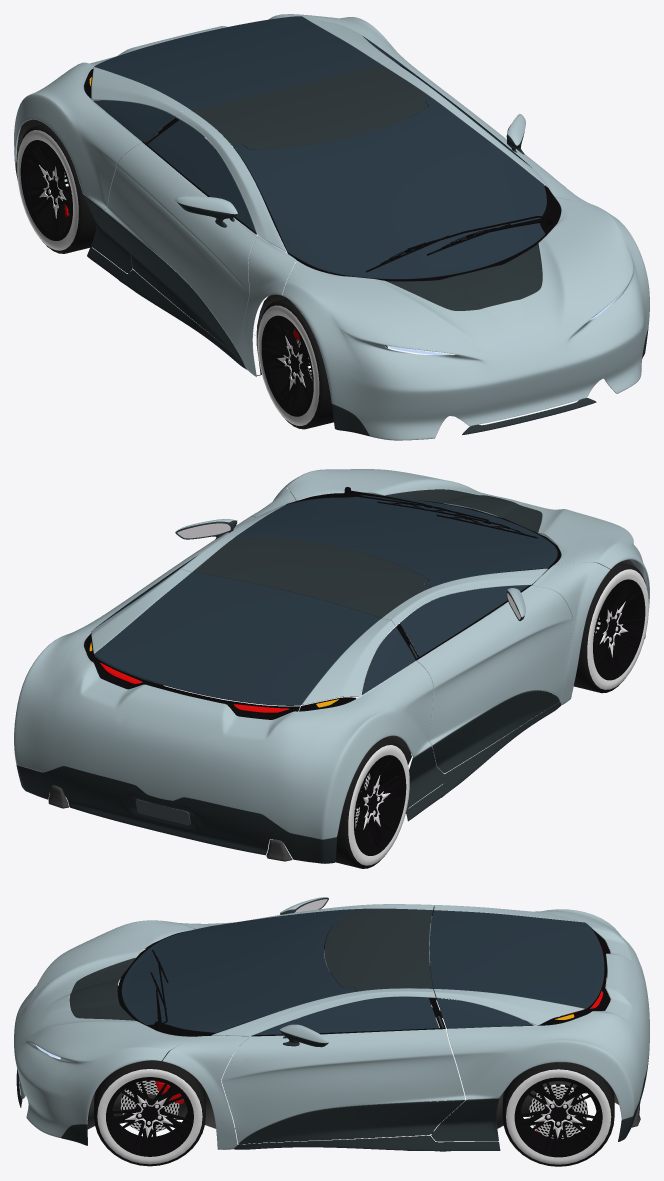
Rendered from coast-gt.glb.
3 views of the same model, one above another, from view 1: azimuth 30°, elevation 25°; view 2: azimuth 150°, elevation 25°; view 3: azimuth 270°, elevation 25° (orthographic). The views are drawn at different scales.
Parts seen in each view (by area): view 1: BodyHood, BodyWindshield, BodyRearwindow, BodyDoorRColor1, BodyRearPanelsColor1, BodyRoofPanel, BodyPillars, BodyPanelsColor2, BodyHoodTopgrill, BodyDoorRWindow, WheelRearRRim, WheelFrontRRim (+9 smaller); view 2: BodyRearPanelsColor1, BodyRearwindow, BodyWindshield, BodyDoorRColor1, BodyPanelsColor2, BodyRoofPanel, BodyHood, BodyPillars, BodyDoorRColor2, WheelFrontRRim, WheelRearRRim, BodyDoorRWindow (+8 smaller); view 3: BodyWindshield, BodyRearPanelsColor1, BodyDoorLColor1, BodyHood, BodyRearwindow, BodyRoofPanel, BodyPillars, BodyDoorLColor2, BodyPanelsColor2, WheelFrontLRim, WheelRearLRim, WheelFrontL (+11 smaller).
Boxes of the visible parts, box(x1,y1,x2,y2) form: BodyHood: box(282, 197, 649, 440); BodyWindshield: box(233, 97, 546, 279); BodyRearwindow: box(94, 16, 381, 110); BodyDoorRColor1: box(104, 142, 256, 361); BodyRearPanelsColor1: box(14, 14, 427, 210); BodyRoofPanel: box(193, 65, 430, 149); BodyPillars: box(175, 61, 595, 376); BodyPanelsColor2: box(15, 109, 648, 436); BodyHoodTopgrill: box(386, 244, 542, 310); BodyDoorRWindow: box(147, 120, 256, 232); WheelRearRRim: box(20, 140, 72, 240); WheelFrontRRim: box(261, 315, 313, 416); BodyRearPanelsColor1: box(14, 569, 433, 839); BodyRearwindow: box(94, 572, 380, 705); BodyWindshield: box(233, 495, 557, 587); BodyDoorRColor1: box(416, 585, 572, 745); BodyPanelsColor2: box(16, 635, 645, 863); BodyRoofPanel: box(193, 536, 430, 618); BodyHood: box(283, 469, 649, 607); BodyPillars: box(179, 487, 609, 704); BodyDoorRColor2: box(432, 690, 559, 773); WheelFrontRRim: box(593, 579, 645, 680); WheelRearRRim: box(354, 755, 406, 855); BodyDoorRWindow: box(399, 585, 528, 656); BodyWindshield: box(121, 909, 356, 1032); BodyRearPanelsColor1: box(434, 905, 649, 1119); BodyDoorLColor1: box(221, 1029, 465, 1144); BodyHood: box(14, 920, 195, 1137); BodyRearwindow: box(429, 910, 604, 1009); BodyRoofPanel: box(324, 908, 432, 991); BodyPillars: box(162, 904, 435, 1149); BodyDoorLColor2: box(239, 1100, 465, 1144); BodyPanelsColor2: box(16, 1005, 649, 1151); WheelFrontLRim: box(106, 1077, 193, 1156); WheelRearLRim: box(514, 1077, 602, 1157); WheelFrontL: box(94, 1053, 205, 1166).
Bounding box in the file's own units: 2.34 × 1.15 × 4.36.
16 materials, 3 textured.
